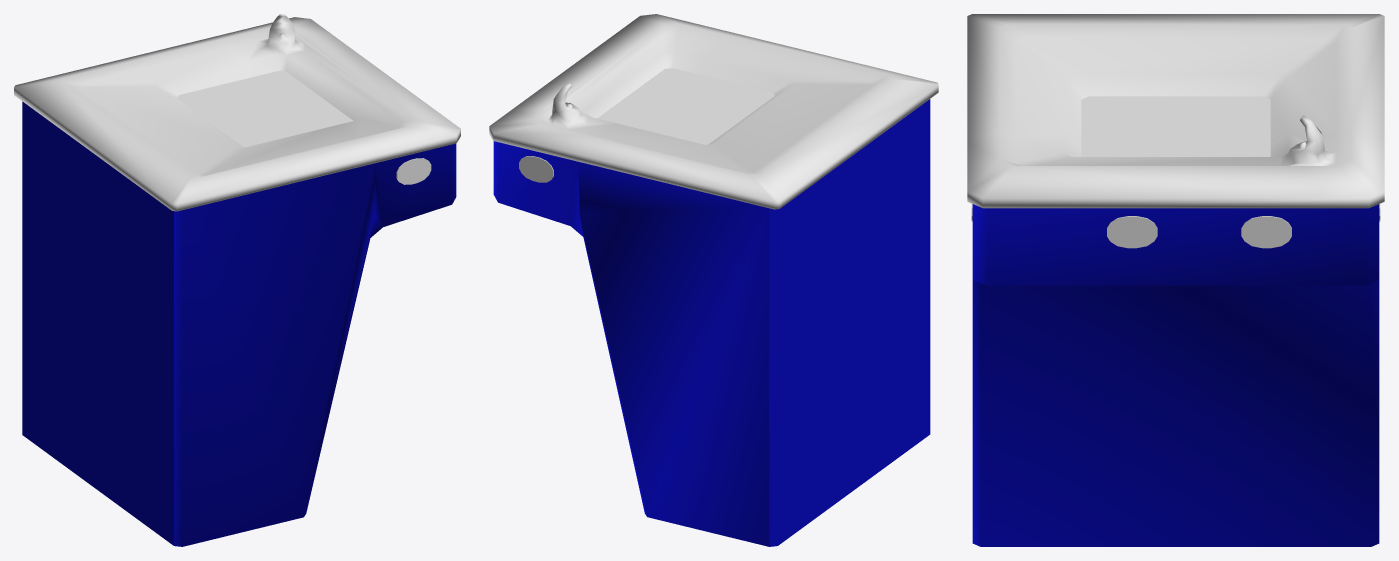
Rendered from Objeto_BebedouroParede_01.fbx.
3 renders of one model, left to right at view 1: azimuth 30°, elevation 25°; view 2: azimuth 150°, elevation 25°; view 3: azimuth 270°, elevation 25°, orthographic. The views are drawn at different scales.
Visible parts, largest first — view 1: BebedouroParede; view 2: BebedouroParede; view 3: BebedouroParede.
Boxes of the visible parts, x1,y1,x2,y2 form: BebedouroParede: (14,14,460,546); BebedouroParede: (489,14,938,546); BebedouroParede: (967,14,1384,546).
Size of the model in its own units: 49.3 by 61.71 by 47.21.
